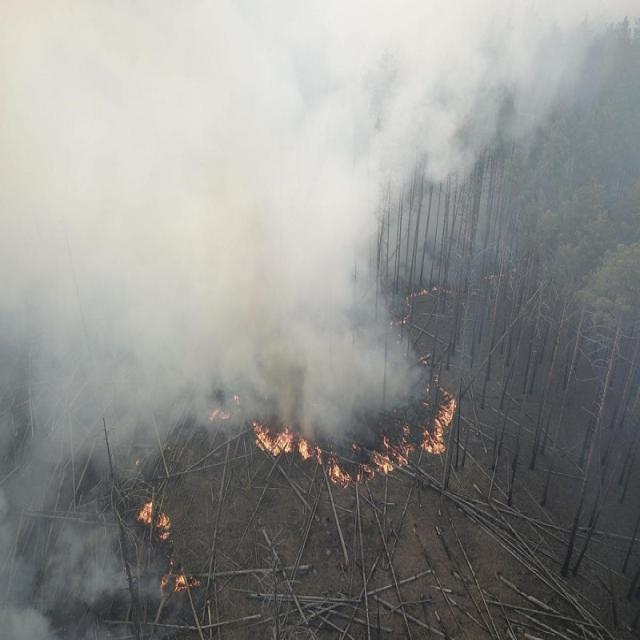smoke: (22, 1, 370, 396), (0, 434, 121, 638)
